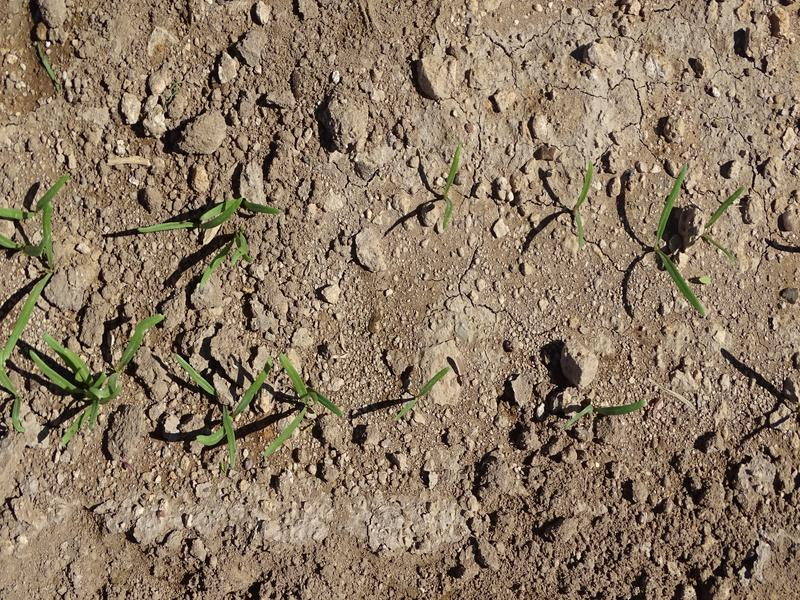Espinaca: (40, 322, 155, 432), (173, 353, 265, 455), (654, 161, 712, 317), (271, 352, 331, 454), (1, 273, 54, 380), (4, 174, 71, 258), (145, 196, 276, 231), (188, 238, 260, 287), (564, 396, 647, 434), (395, 365, 451, 418), (569, 158, 596, 247), (440, 142, 467, 226)
